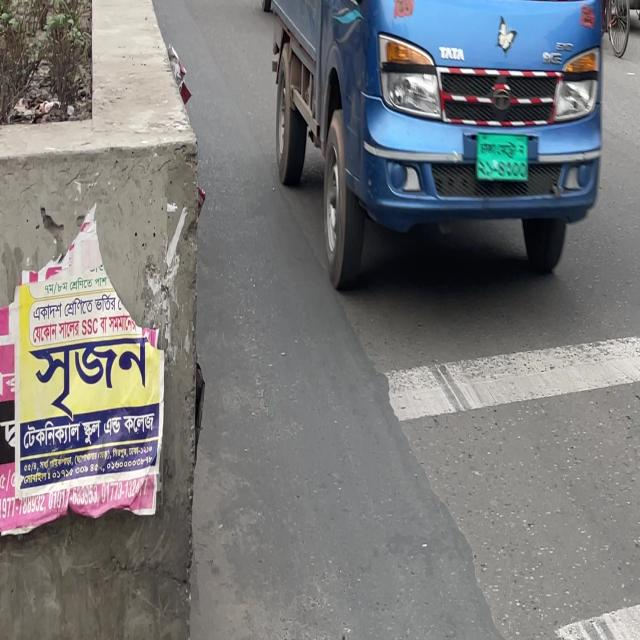rickshaw: (606, 0, 640, 50)
van: (267, 0, 618, 323)
